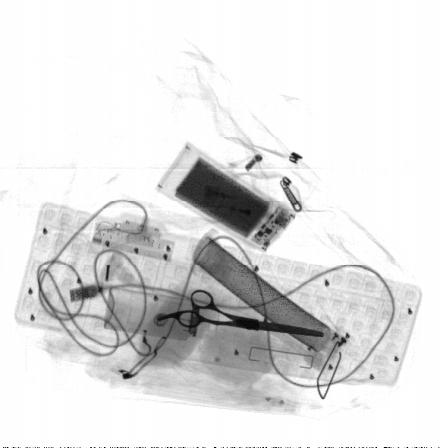Lighter: (203, 182, 271, 223)
Powerbank: (155, 141, 300, 256)
Scissors: (154, 287, 326, 340)
Sprayer: (101, 283, 221, 339)
